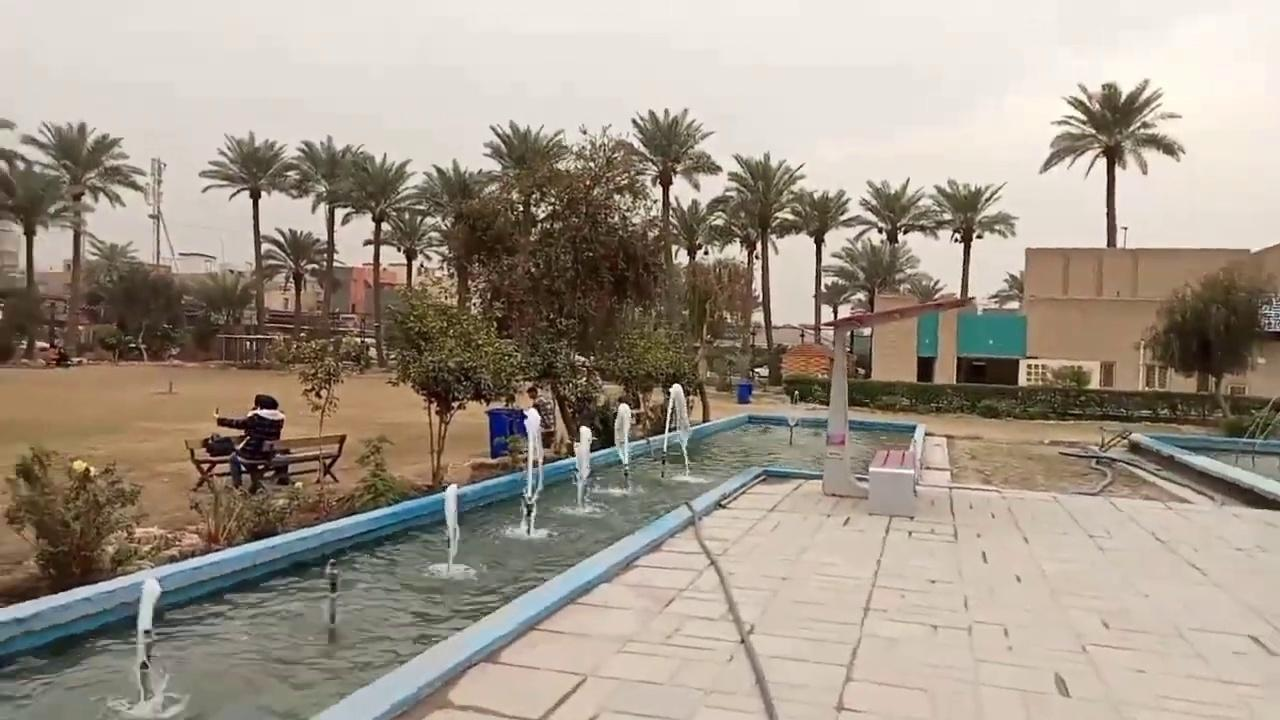fountain: (1, 384, 925, 718), (97, 575, 191, 718), (505, 406, 552, 538), (418, 481, 477, 580)
person: (214, 393, 285, 494), (526, 385, 554, 431)
tree: (21, 118, 147, 354), (382, 286, 522, 489), (1038, 77, 1185, 247), (546, 122, 646, 356), (621, 106, 721, 333), (1139, 264, 1275, 418), (197, 129, 297, 335), (480, 119, 571, 342), (3, 444, 147, 584), (721, 150, 806, 385), (326, 150, 416, 367), (0, 153, 79, 360), (286, 134, 363, 335), (270, 333, 370, 483), (412, 157, 497, 312), (919, 176, 1018, 301), (592, 323, 698, 435), (701, 192, 762, 380), (522, 327, 603, 453), (786, 187, 851, 344), (848, 175, 933, 295), (664, 194, 728, 344), (97, 263, 185, 359), (258, 225, 329, 341), (820, 236, 918, 313), (295, 336, 345, 482), (365, 205, 443, 294), (192, 268, 259, 330), (665, 195, 727, 262), (0, 283, 50, 362), (82, 232, 140, 288), (142, 156, 167, 266), (813, 278, 853, 321), (988, 269, 1023, 308), (904, 272, 945, 303)
